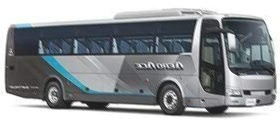bus: (5, 8, 278, 115)
